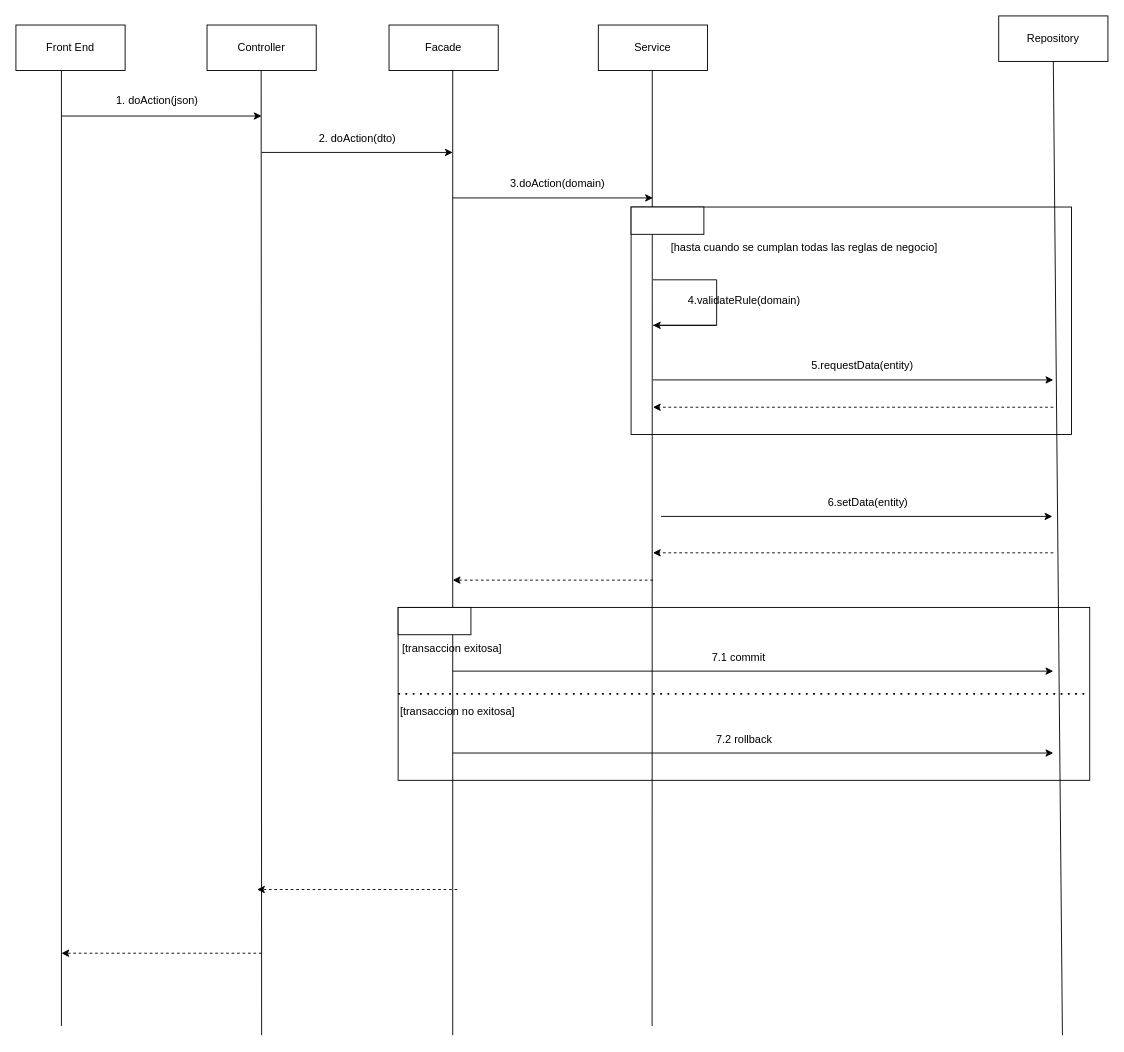
This 1124x1052 diagram has some shape labels left out. Each missing label, with the box of its shape:
alt: (397, 607, 471, 635)
loop: (630, 206, 704, 234)
